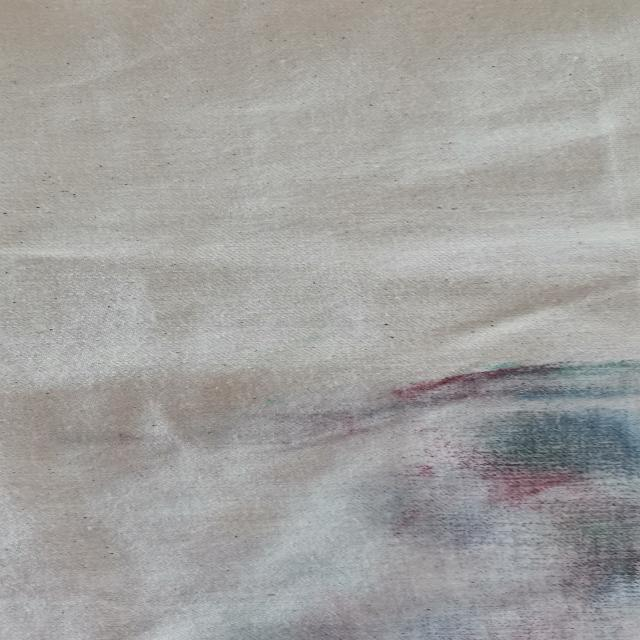taaaches: (287, 362, 640, 632)
